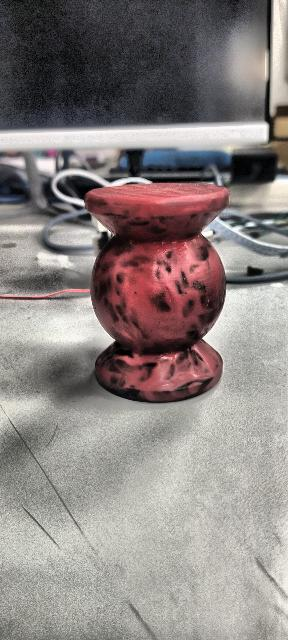red: (83, 181, 242, 408)
